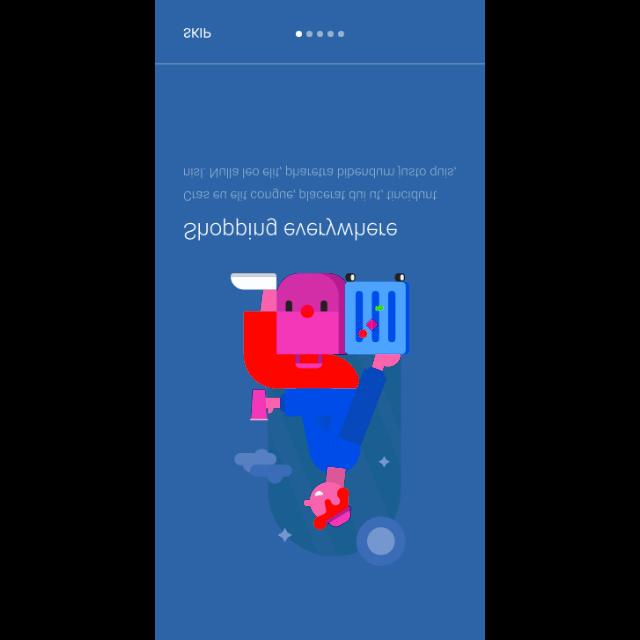image: (230, 272, 410, 566)
pageindicator: (296, 29, 346, 37)
text: (183, 164, 457, 202), (184, 217, 398, 241), (184, 28, 212, 38)
